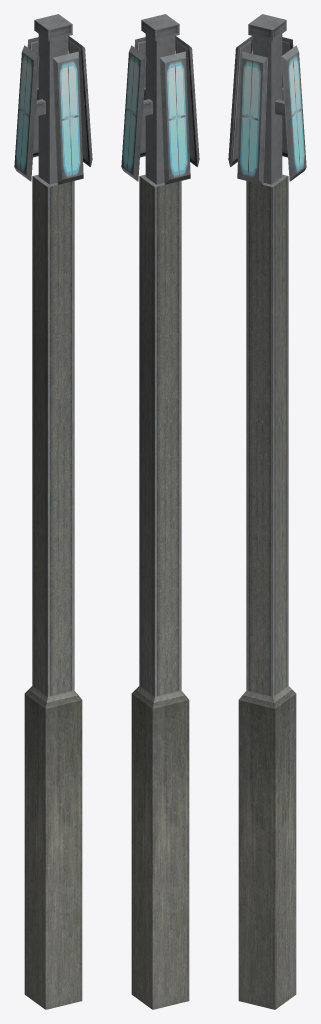
The model's file is frn_all_glow_light_s2_l0.fbx.
3 renders of one model, left to right at view 1: azimuth 30°, elevation 25°; view 2: azimuth 210°, elevation 25°; view 3: azimuth 330°, elevation 25°, orthographic.
Visible parts, largest first — view 1: mesh_node; view 2: mesh_node; view 3: mesh_node.
Part boxes in pixels (x1,y1,x2,y2): mesh_node: [14, 14, 92, 1009]; mesh_node: [121, 14, 199, 1009]; mesh_node: [228, 14, 306, 1009].
Size of the model in its own units: 0.3724 by 5.25 by 0.3724.
1 material, 1 textured.
